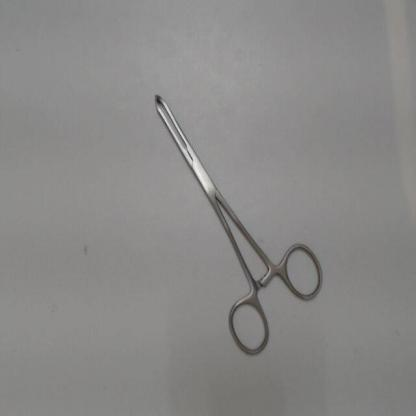Allis Tissue Forceps: (146, 81, 329, 364)
